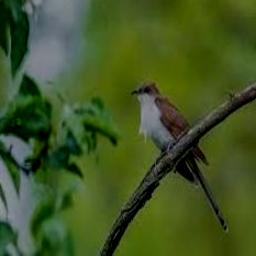Cuckoo: (131, 81, 229, 232)
